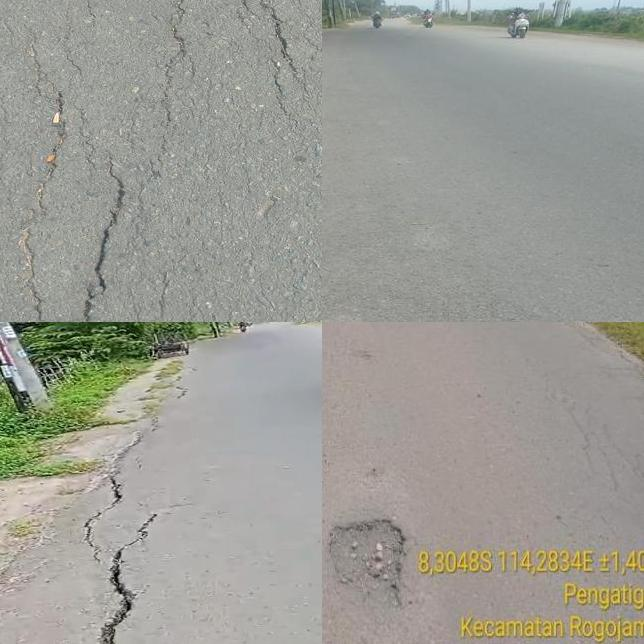Lubang: (324, 524, 406, 608)
Memanjang: (60, 145, 141, 322), (96, 522, 167, 644)
